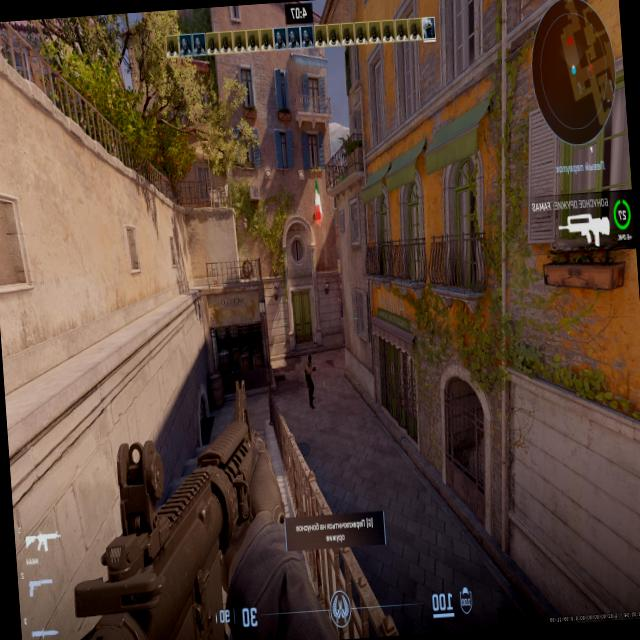T: (304, 353, 316, 405)
T_heat: (306, 356, 312, 366)
